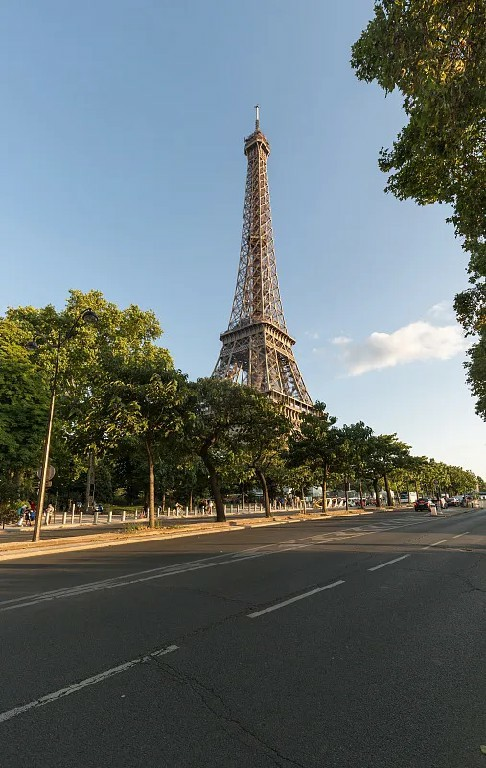Eiffel: (208, 104, 327, 457)
